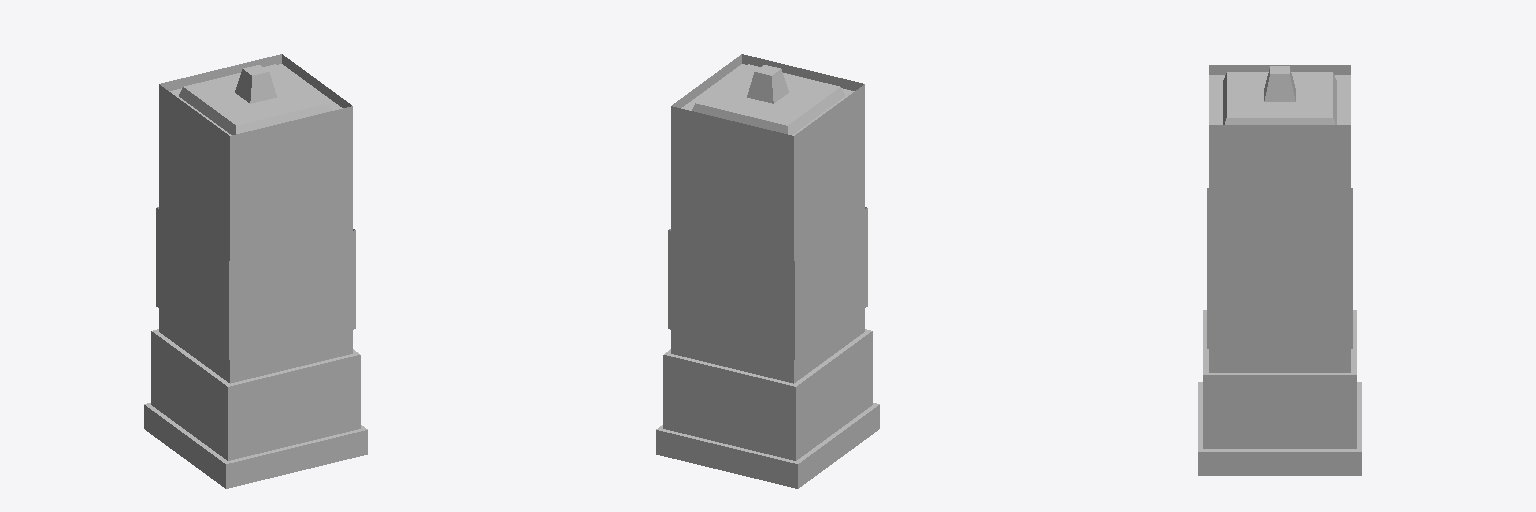
File: shotgun_3bcal.obj
3 renders of one model, left to right at view 1: azimuth 30°, elevation 25°; view 2: azimuth 150°, elevation 25°; view 3: azimuth 270°, elevation 25°, orthographic.
Visible parts, largest first — view 1: SHELL, paint, core_softpoint_slug, piercing_sabot_simple; view 2: SHELL, paint, core_softpoint_slug, piercing_sabot_simple; view 3: SHELL, paint, core_softpoint_slug, core_canister_pellets, piercing_sabot_simple.
Part boxes in pixels (bbox=[...]): SHELL: bbox=[144, 54, 367, 488]; paint: bbox=[156, 207, 355, 359]; core_softpoint_slug: bbox=[179, 64, 331, 134]; piercing_sabot_simple: bbox=[235, 65, 276, 103]; SHELL: bbox=[656, 54, 879, 488]; paint: bbox=[668, 207, 867, 359]; core_softpoint_slug: bbox=[692, 64, 844, 134]; piercing_sabot_simple: bbox=[747, 65, 788, 103]; SHELL: bbox=[1198, 65, 1361, 475]; paint: bbox=[1207, 188, 1352, 348]; core_softpoint_slug: bbox=[1223, 72, 1336, 124]; core_canister_pellets: bbox=[1209, 75, 1350, 124]; piercing_sabot_simple: bbox=[1264, 66, 1295, 101].
Bounding box in the file's own units: 0.1875 × 0.4688 × 0.1875.